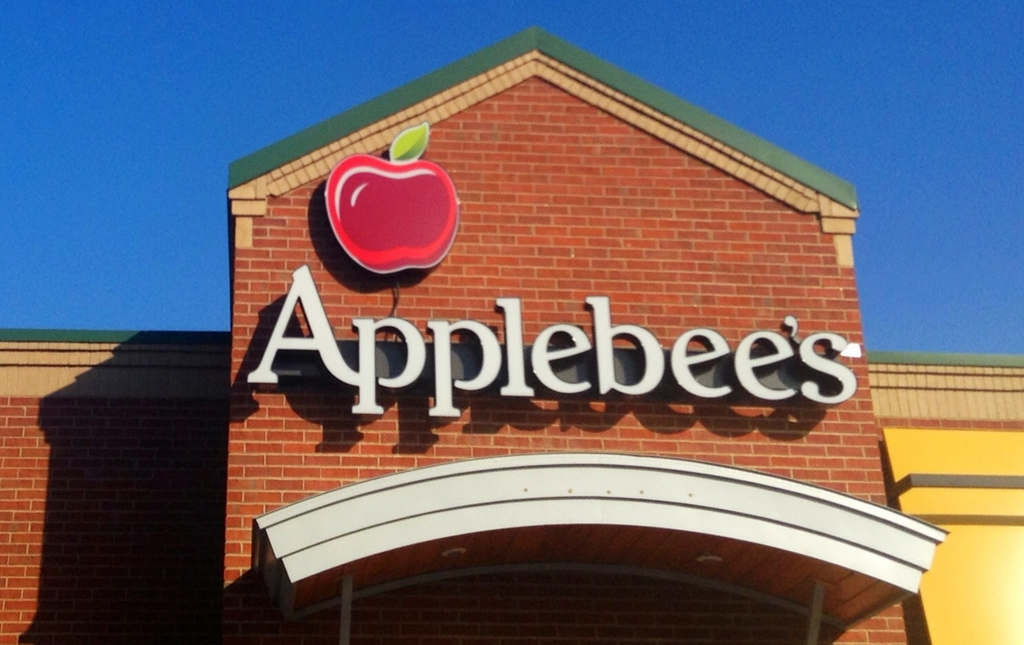Apple: (327, 120, 459, 274)
